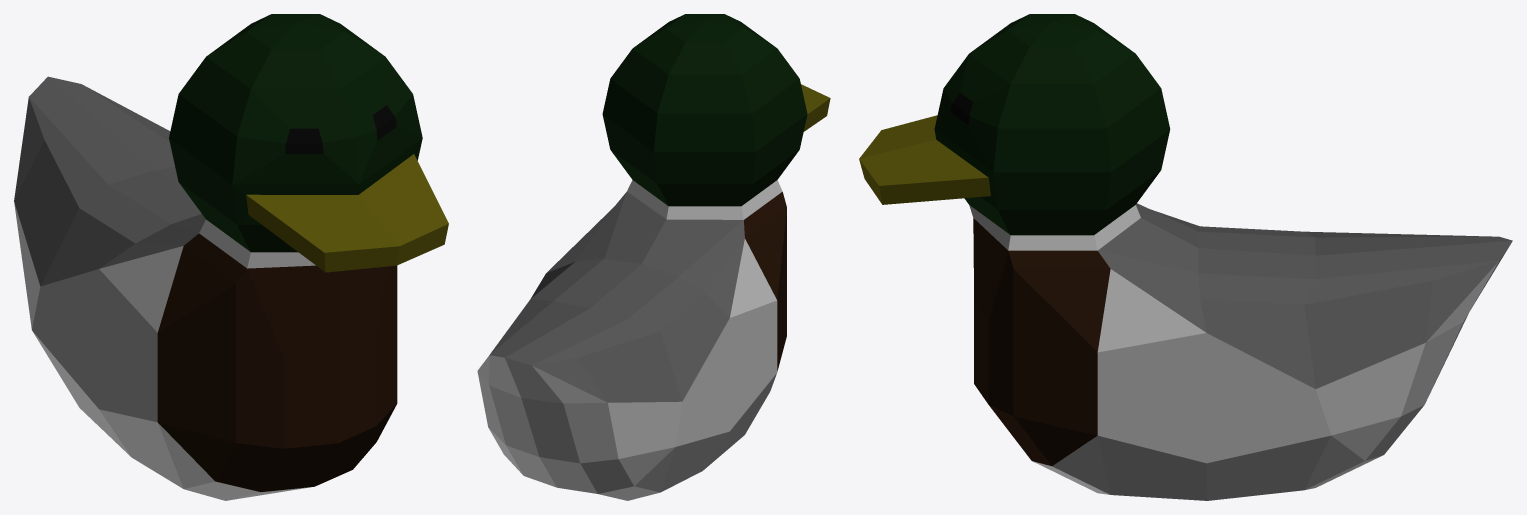
The model's file is eend.fbx.
3 renders of one model, left to right at view 1: azimuth 30°, elevation 25°; view 2: azimuth 150°, elevation 25°; view 3: azimuth 270°, elevation 25°, orthographic. The views are drawn at different scales.
Visible parts, largest first — view 1: Cube; view 2: Cube; view 3: Cube.
Part boxes in pixels (x1,y1,x2,y2): Cube: [14, 14, 448, 500]; Cube: [477, 14, 830, 500]; Cube: [859, 14, 1512, 500].
Bounding box in the file's own units: 0.2426 × 0.5011 × 0.6502.
